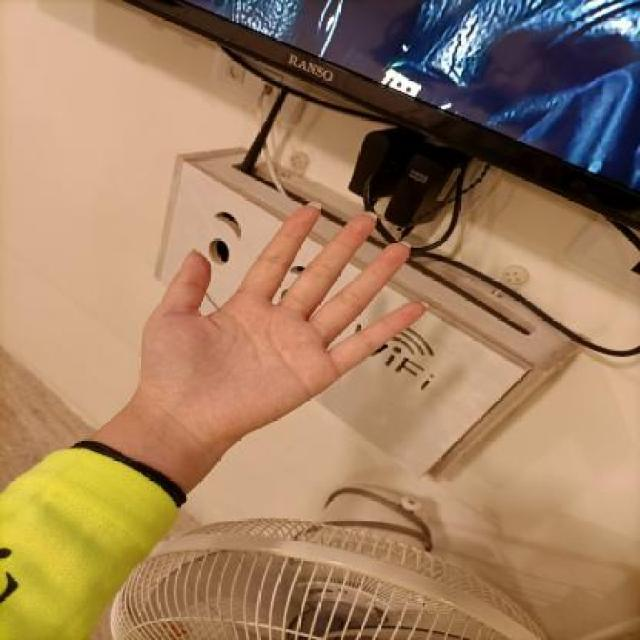bare_hand: (122, 188, 441, 434)
